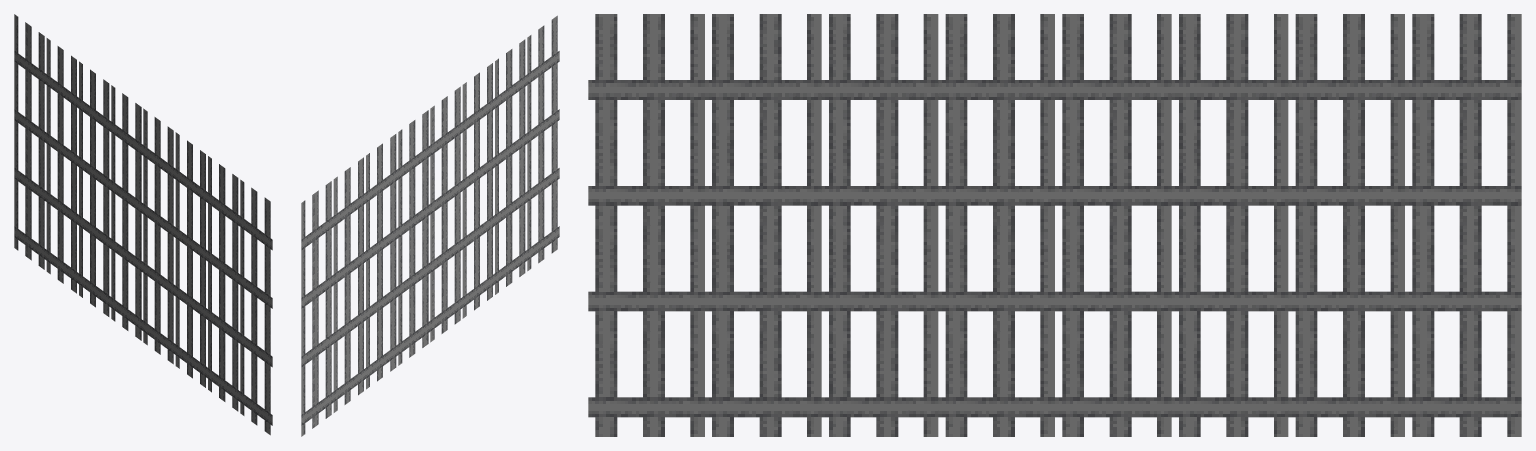
File: bars.dae
The picture shows the model from 3 angles, left to right: view 1: azimuth 30°, elevation 25°; view 2: azimuth 150°, elevation 25°; view 3: azimuth 270°, elevation 25°; orthographic projection. The views are drawn at different scales.
Parts seen in each view (by area): view 1: Cube; view 2: Cube; view 3: Cube.
Boxes of the visible parts, bbox=[...] form: Cube: bbox=[14, 14, 272, 435]; Cube: bbox=[301, 15, 559, 436]; Cube: bbox=[588, 14, 1521, 436].
Size of the model in its own units: 0 by 8 by 4.
1 material, 1 textured.
